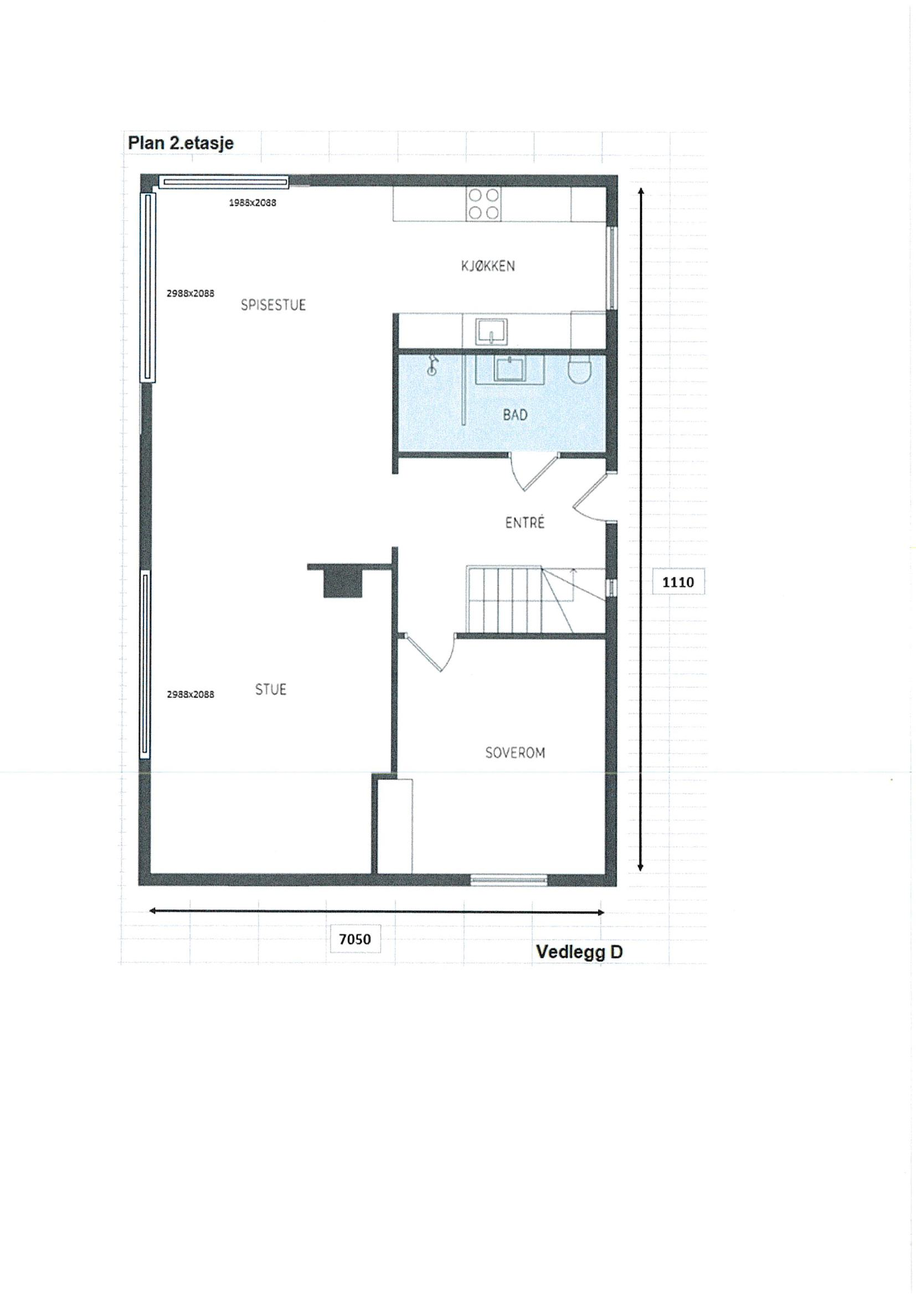plantegning: (141, 173, 616, 888)
